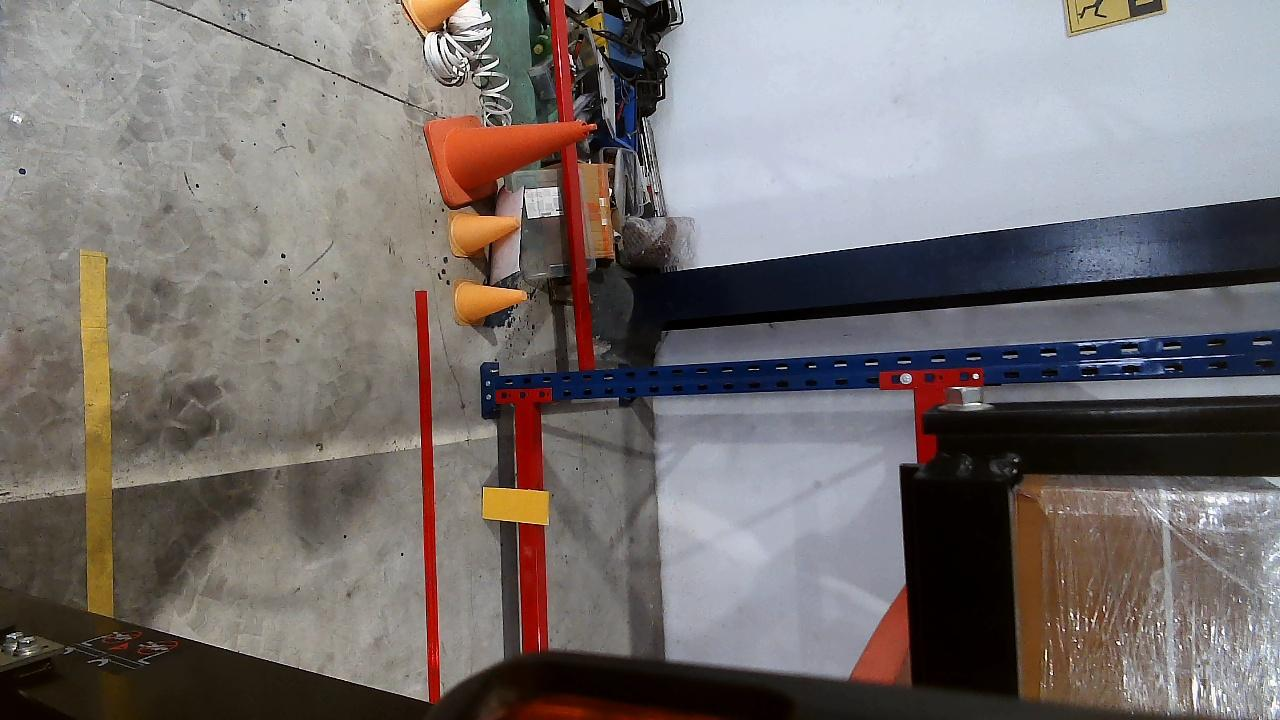h_rack: (512, 403, 545, 651)
orange_strip: (482, 486, 550, 523)
red_line: (414, 291, 445, 704)
yellow_line: (79, 250, 113, 618)
